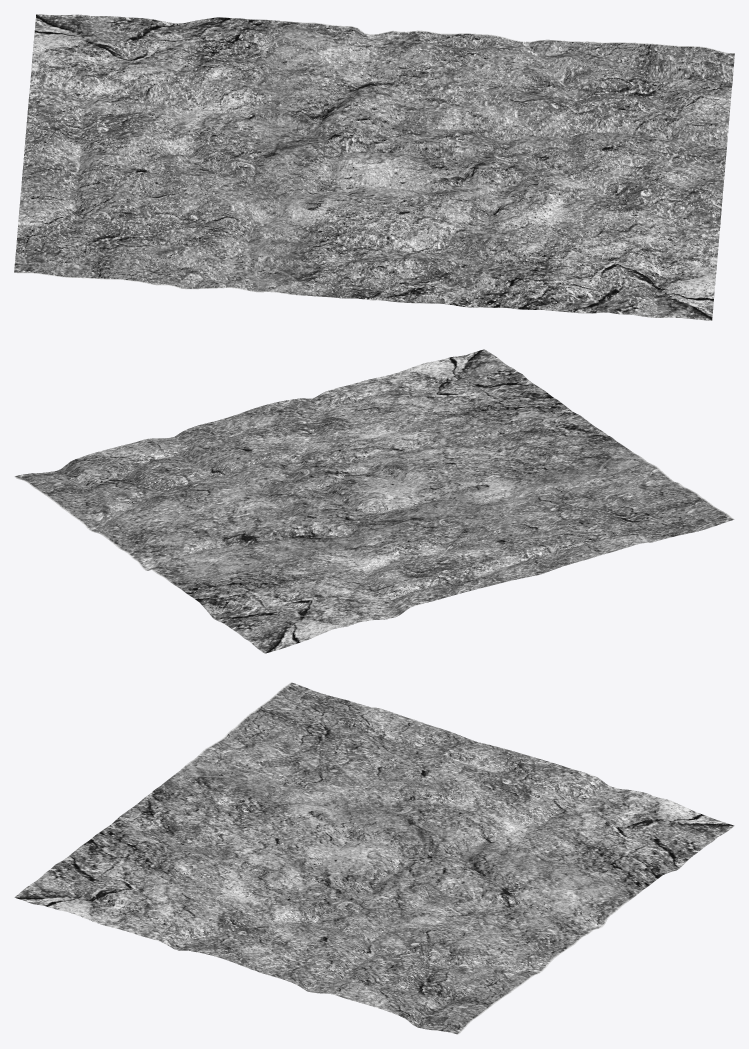
The model's file is extground.obj.
3 renders of one model, top to bottom at view 1: azimuth 30°, elevation 25°; view 2: azimuth 150°, elevation 25°; view 3: azimuth 270°, elevation 25°, orthographic. The views are drawn at different scales.
Parts seen in each view (by area): view 1: Rockwall; view 2: Rockwall; view 3: Rockwall.
Part boxes in pixels (x1=…): Rockwall: x1=14, y1=14, x2=734, y2=320; Rockwall: x1=14, y1=349, x2=734, y2=653; Rockwall: x1=14, y1=682, x2=734, y2=1034.
Bounding box in the file's own units: 156 × 12.52 × 156.
